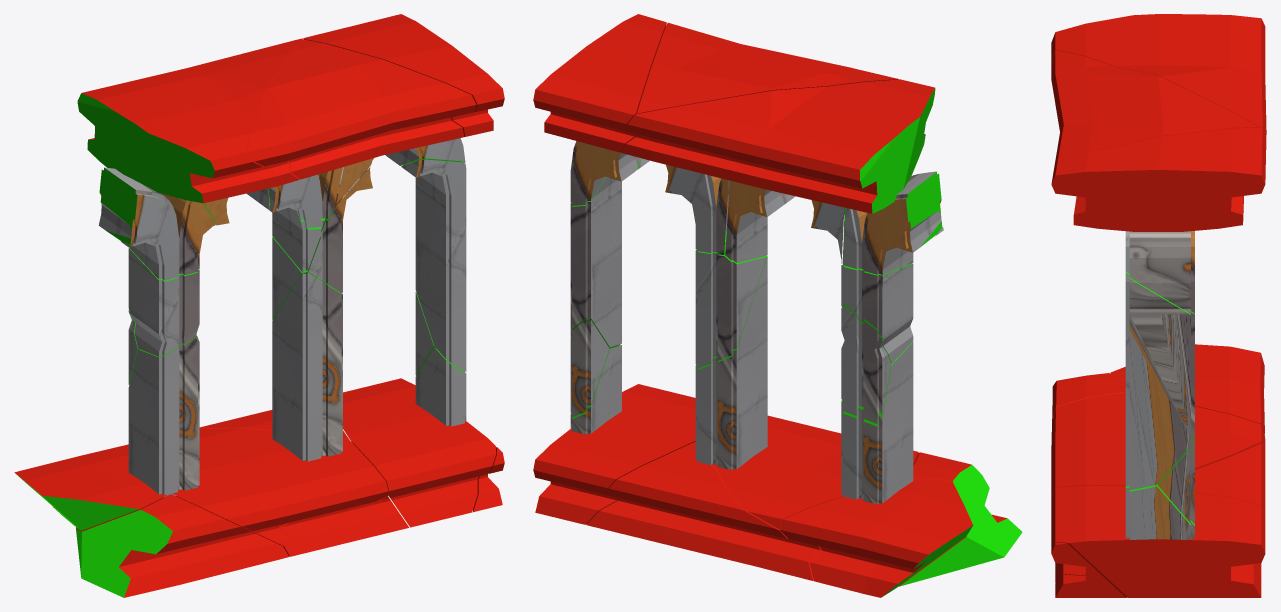
File: SM_Fence1m_Half-Broken_01.fbx
3 views of the same model, side by side, from view 1: azimuth 30°, elevation 25°; view 2: azimuth 150°, elevation 25°; view 3: azimuth 270°, elevation 25° (orthographic).
Visible parts, largest first — view 1: SM_Fence1m_Half-Broken_01; view 2: SM_Fence1m_Half-Broken_01; view 3: SM_Fence1m_Half-Broken_01.
Part boxes in pixels (x1,y1,x2,y2): SM_Fence1m_Half-Broken_01: (14, 14, 504, 597); SM_Fence1m_Half-Broken_01: (533, 14, 1022, 597); SM_Fence1m_Half-Broken_01: (1051, 14, 1266, 597).
Bounding box in the file's own units: 0.9184 × 0.9466 × 0.4268.
